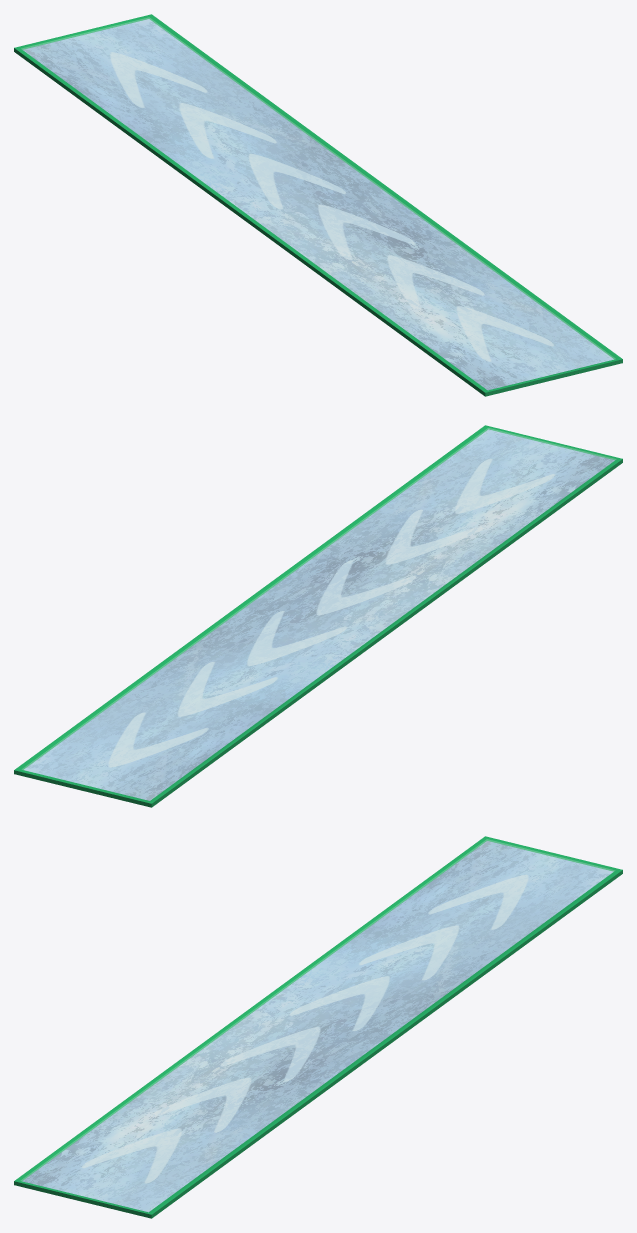
File: Ground_Fast.fbx
3 renders of one model, top to bottom at view 1: azimuth 30°, elevation 25°; view 2: azimuth 150°, elevation 25°; view 3: azimuth 330°, elevation 25°, orthographic.
Parts seen in each view (by area): view 1: Ground_Fast; view 2: Ground_Fast; view 3: Ground_Fast.
Boxes of the visible parts, x1,y1,x2,y2 form: Ground_Fast: (14, 14, 622, 396); Ground_Fast: (14, 425, 622, 807); Ground_Fast: (14, 836, 622, 1218).
Size of the model in its own units: 179 by 4.87 by 1062.
